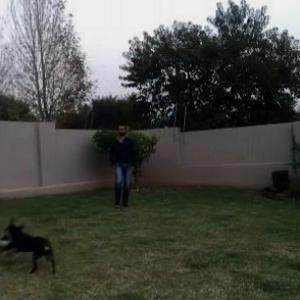follow: (108, 118, 136, 212)
